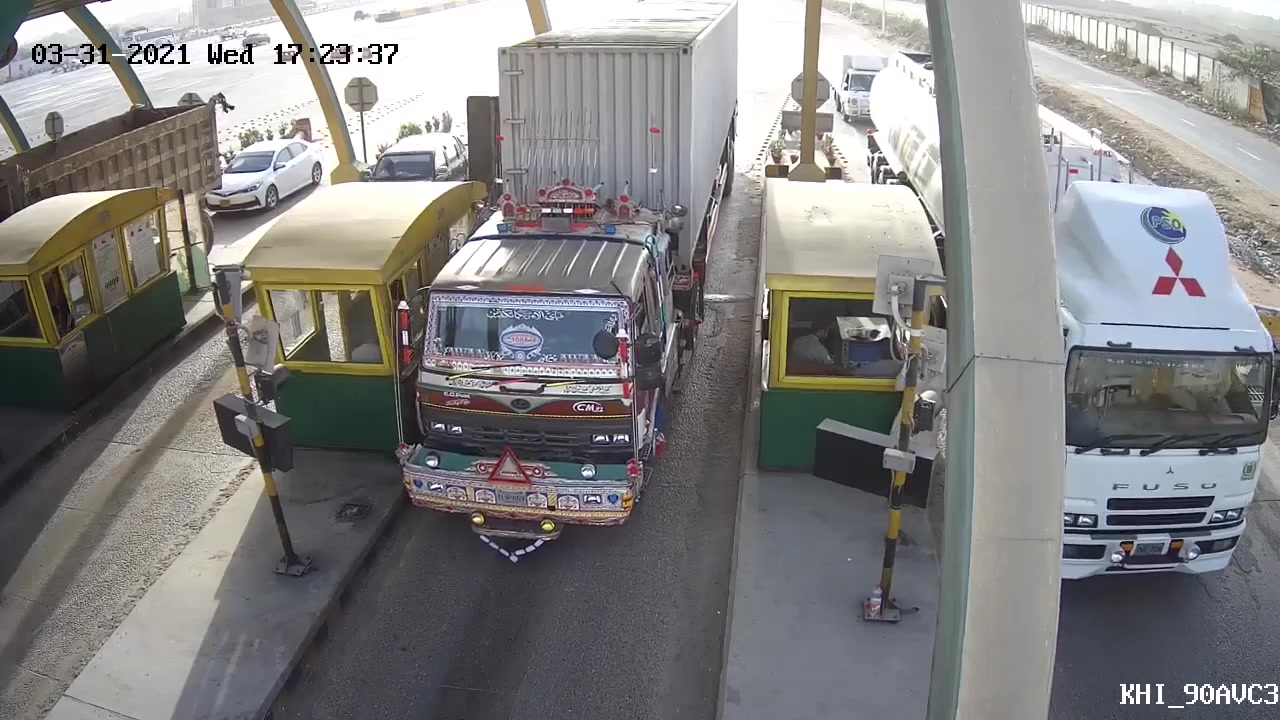F6: (401, 3, 739, 545)
